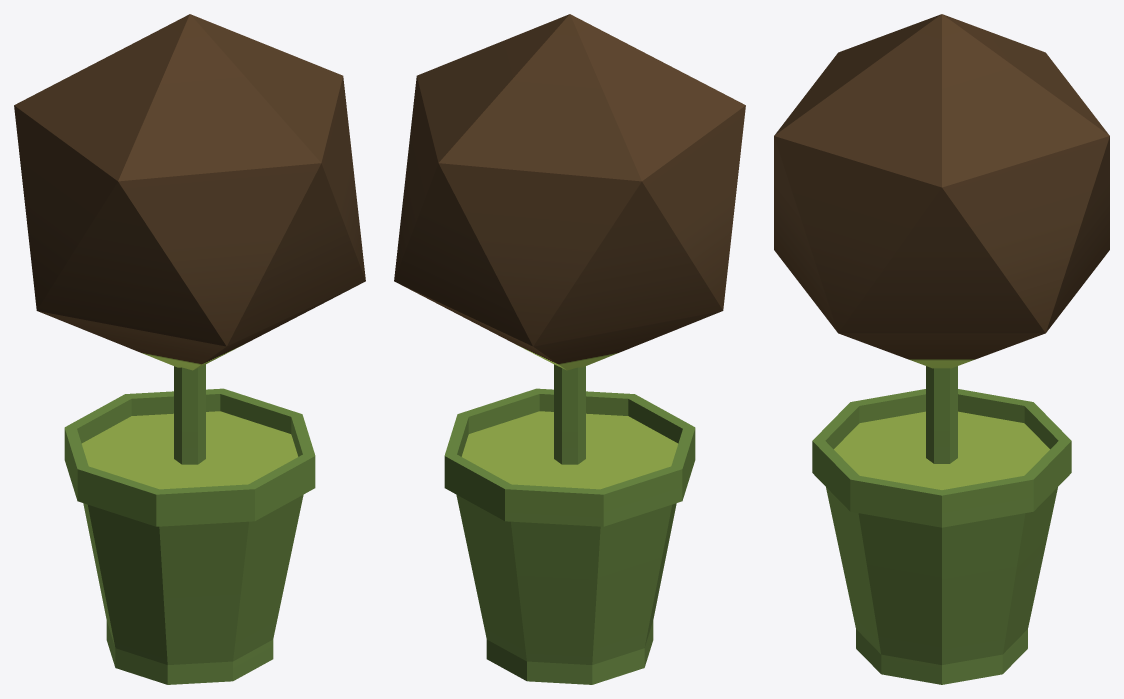
The model's file is Pot_04.fbx.
The picture shows the model from 3 angles, left to right: view 1: azimuth 30°, elevation 25°; view 2: azimuth 150°, elevation 25°; view 3: azimuth 270°, elevation 25°; orthographic projection.
Visible parts, largest first — view 1: Pot_04; view 2: Pot_04; view 3: Pot_04.
Boxes of the visible parts, x1,y1,x2,y2 form: Pot_04: [14, 14, 365, 684]; Pot_04: [394, 14, 745, 684]; Pot_04: [774, 14, 1109, 684].
Bounding box in the file's own units: 0.5283 × 1.05 × 0.5025.
